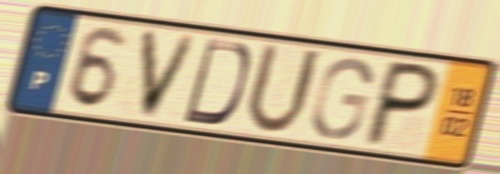6: (64, 24, 128, 112)
D: (179, 36, 254, 129)
G: (308, 55, 376, 142)
P: (357, 57, 445, 150)
U: (240, 39, 325, 139)
V: (137, 26, 202, 123)
